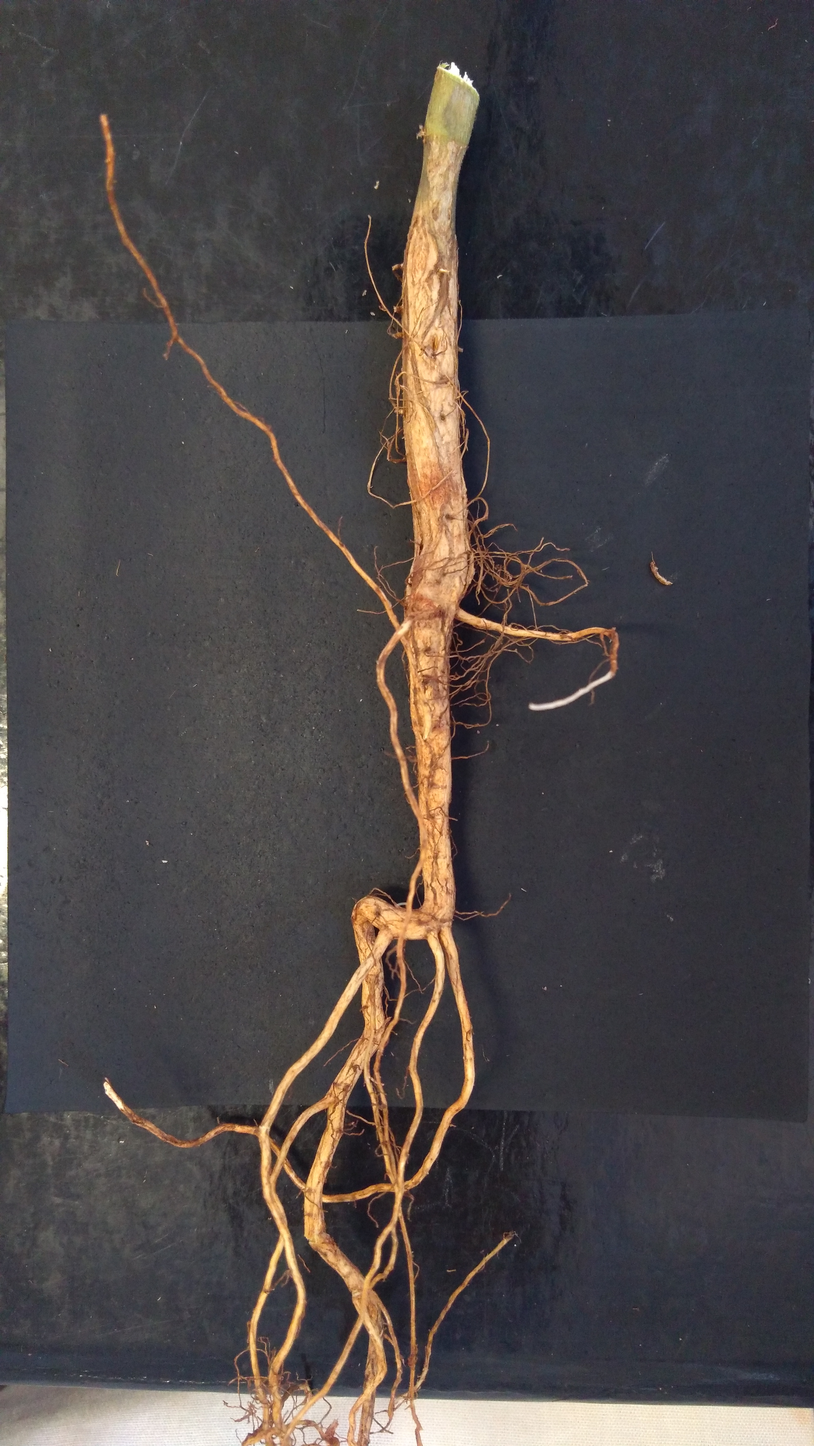nodule: (407, 1353, 418, 1368), (325, 1436, 340, 1445)
